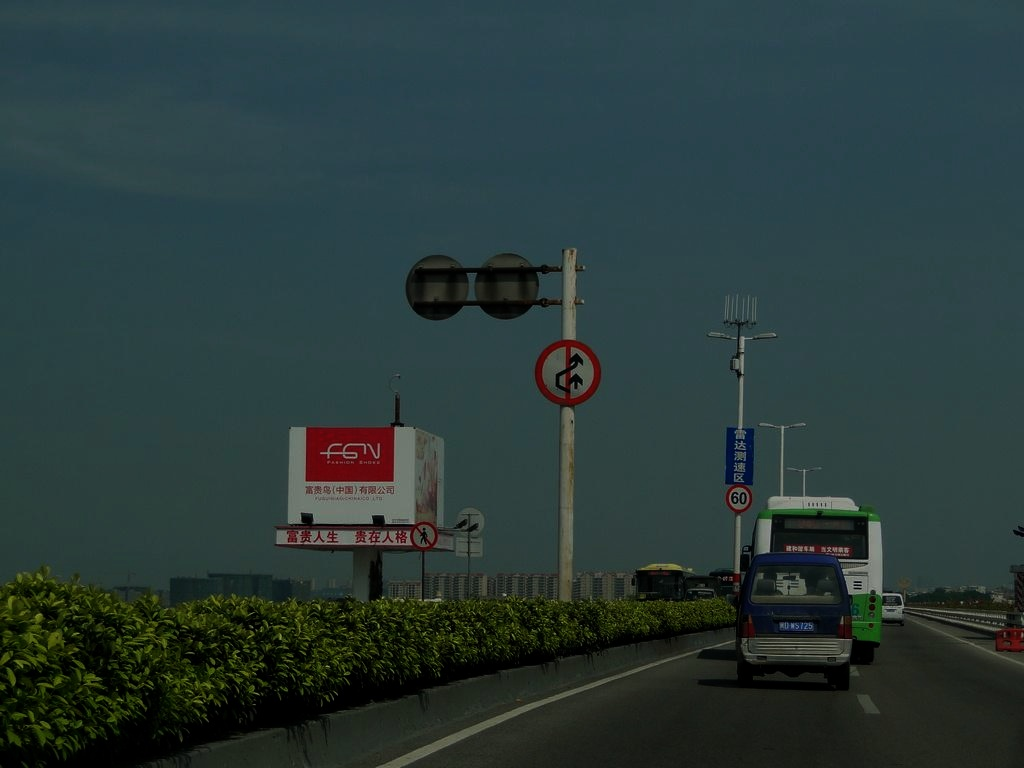Prohibitory Signs: (532, 339, 603, 408), (410, 521, 439, 552), (725, 484, 754, 514)
